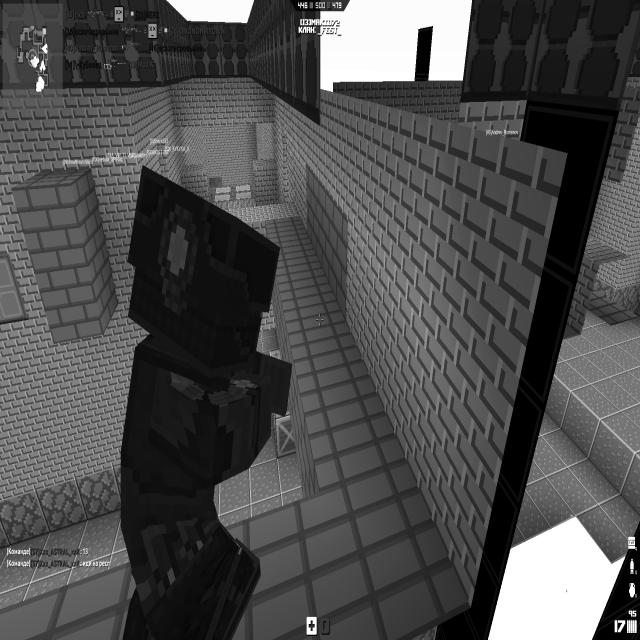Head: (127, 165, 280, 380)
Player: (119, 164, 292, 638)
